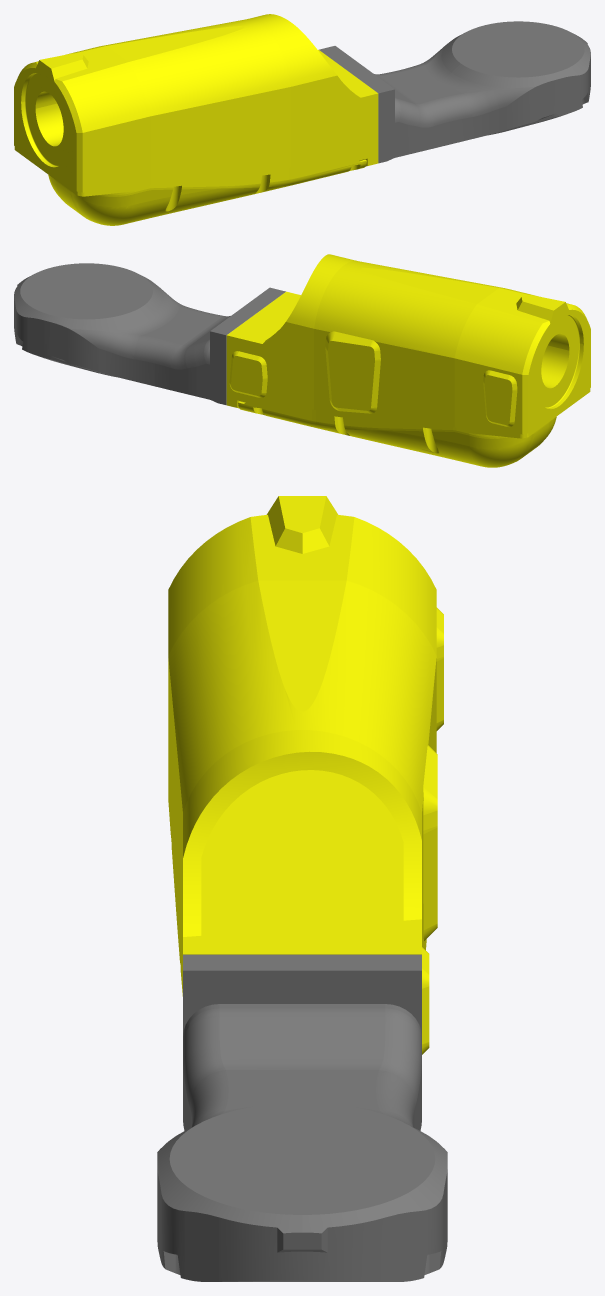
3 renders of one model, top to bottom at view 1: azimuth 30°, elevation 25°; view 2: azimuth 150°, elevation 25°; view 3: azimuth 270°, elevation 25°, orthographic. The views are drawn at different scales.
Parts seen in each view (by area): view 1: Mesh_0; view 2: Mesh_0; view 3: Mesh_0.
Boxes of the visible parts, x1,y1,x2,y2 form: Mesh_0: (14,14,590,225); Mesh_0: (14,254,590,467); Mesh_0: (157,496,447,1281).
Size of the model in its own units: 0.6753 by 0.1985 by 0.158.
